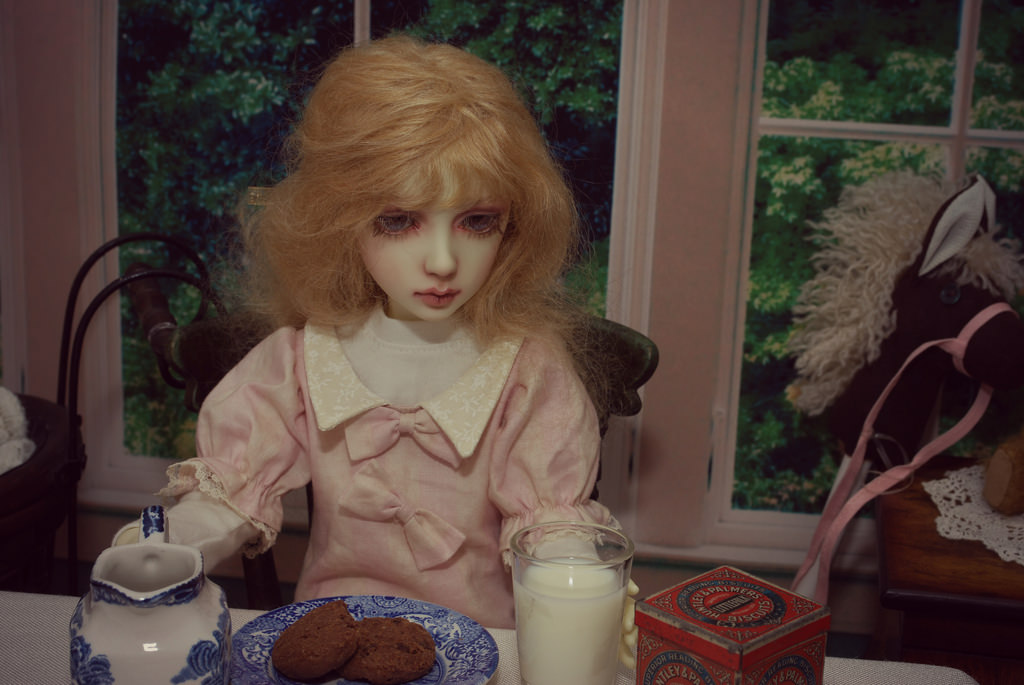glass of milk: (501, 513, 626, 685)
